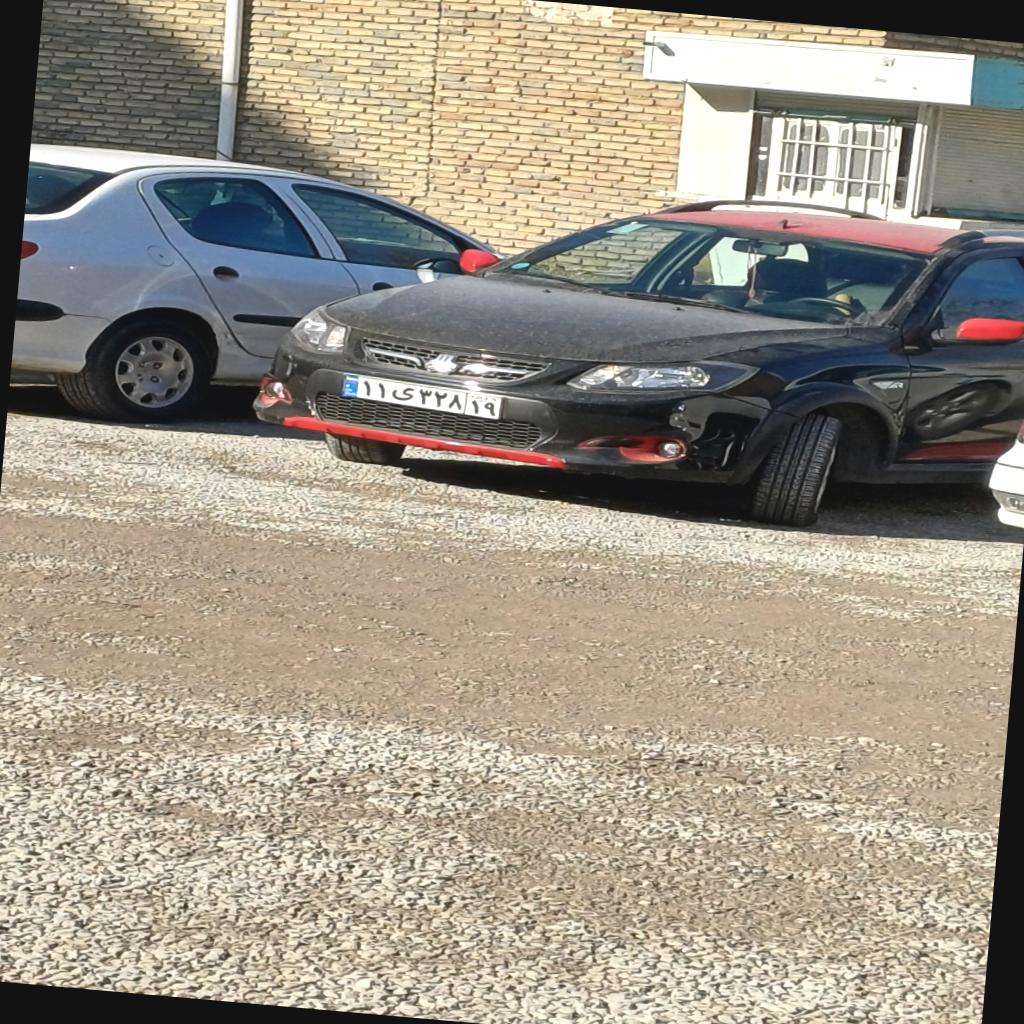Plates: (340, 372, 504, 420)
